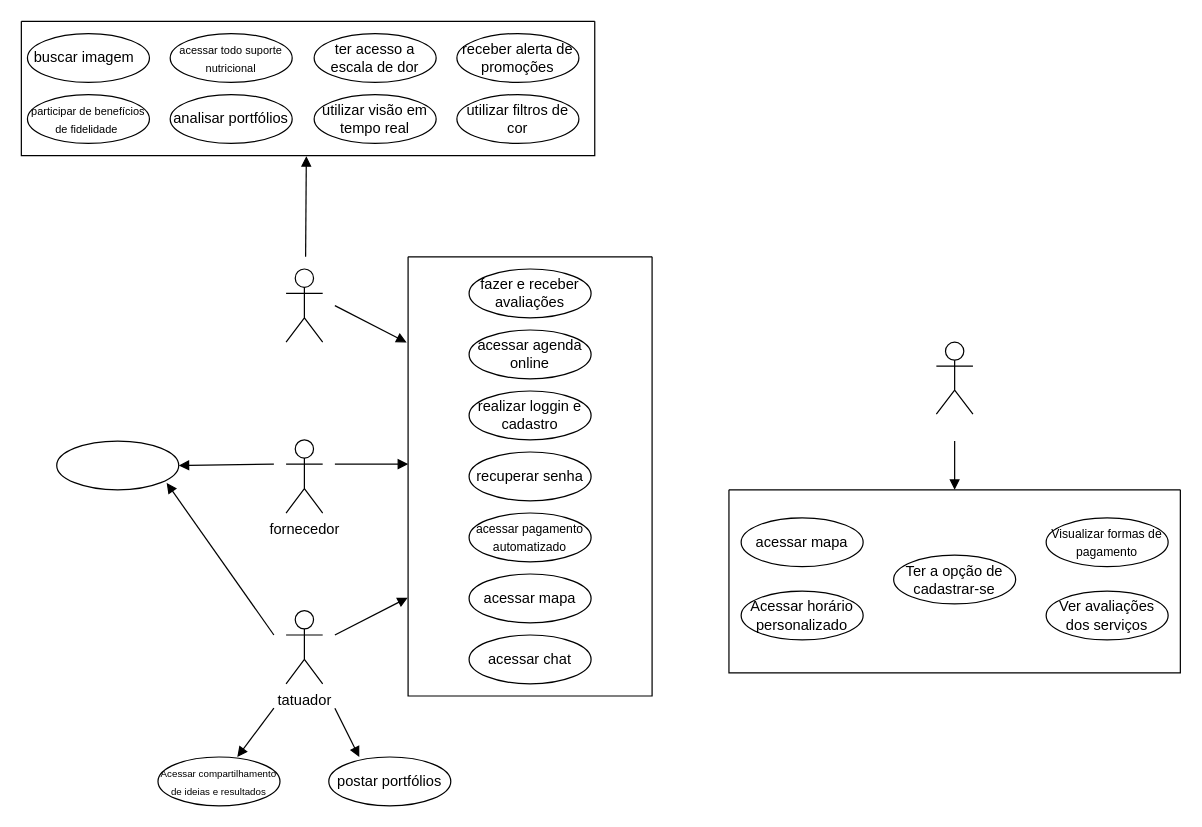
The diagram is 1202 pixels wide and 827 high, and some of its shapes have lost their labels. The centre of each missing label's shape, as x and y in pixels:
cliente: (304,305)
interagir com clientes: (117,465)
Visitante: (954,377)
